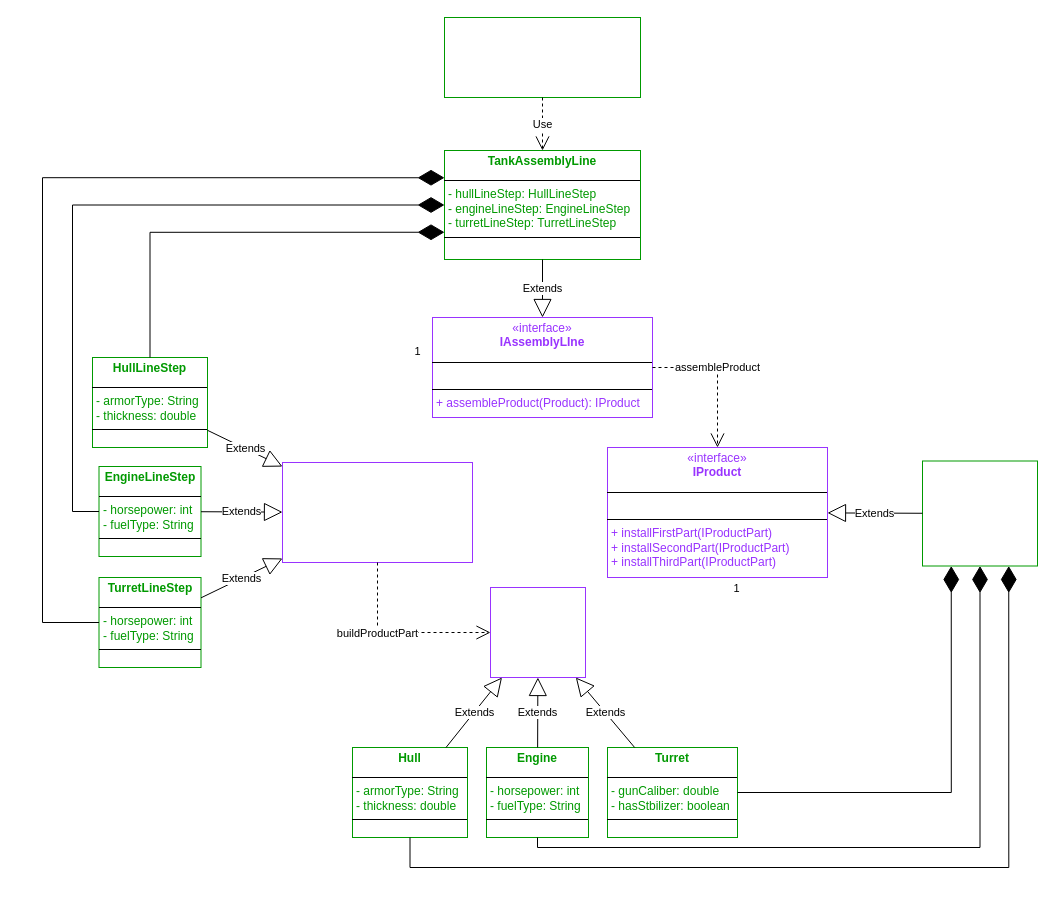
This 1055x911 diagram has some shape labels left out. Each missing label, with the box of its shape:
Tank - hull: Hull - engine: Engine - turret: Turret: (922, 460, 1038, 566)
TankAssemblyTest: (444, 16, 640, 98)
«interface » ILineStep + buildProductPart(): IProductPart: (282, 462, 472, 562)
«interface » IProductPart: (490, 586, 586, 678)
